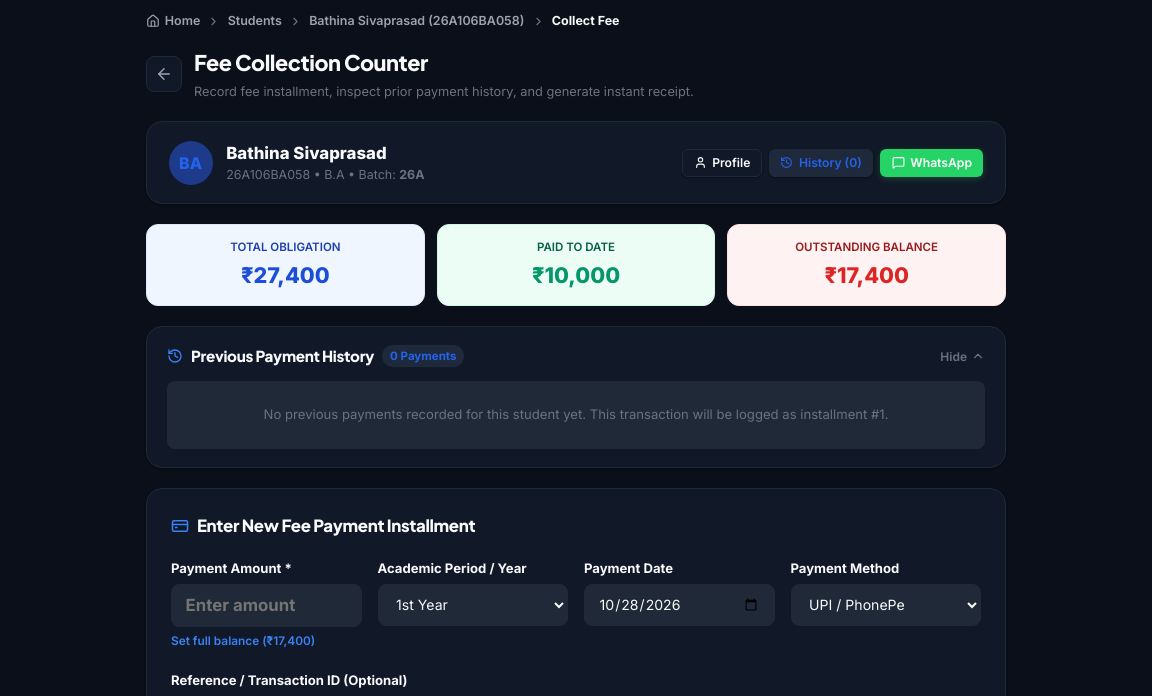
it: RecordPaymentView Component › allows clicking quick full balance button to populate amount
The image size is (1152, 696).
Click the button "Set full balance (₹17,400)" at (243, 641), box [171,634,315,648]
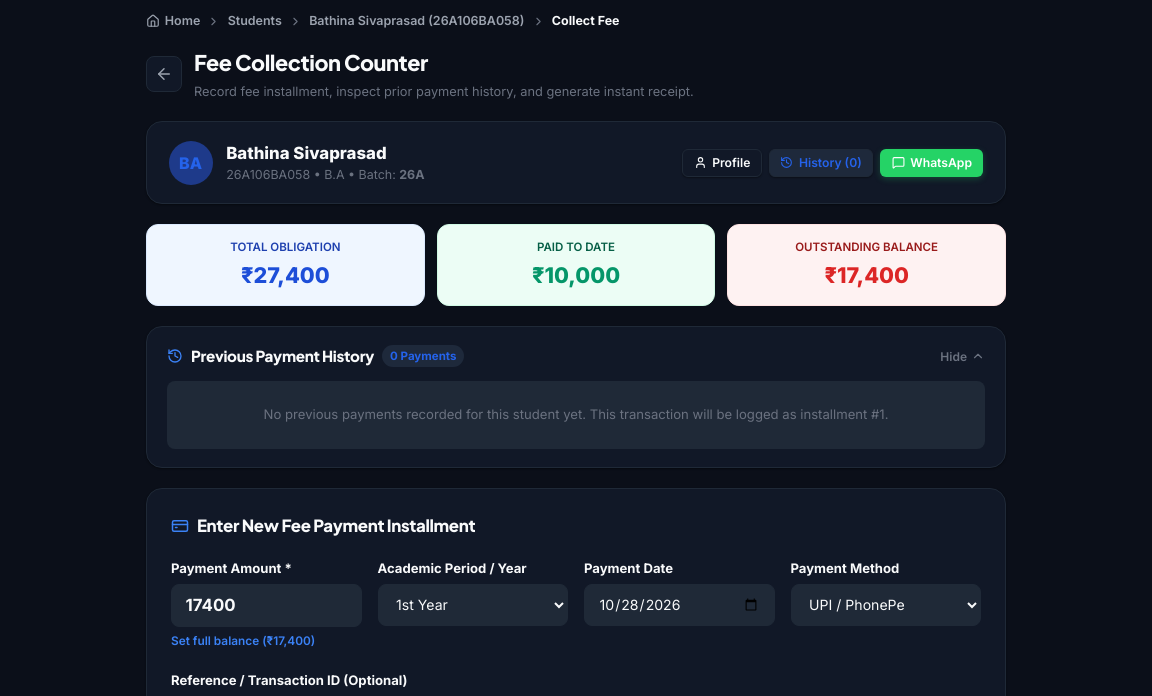
Expected: the number field with placeholder "Enter amount" holds "17400", [171,584,362,627]
